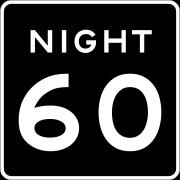Speed Limit -60-: (2, 69, 180, 158)
